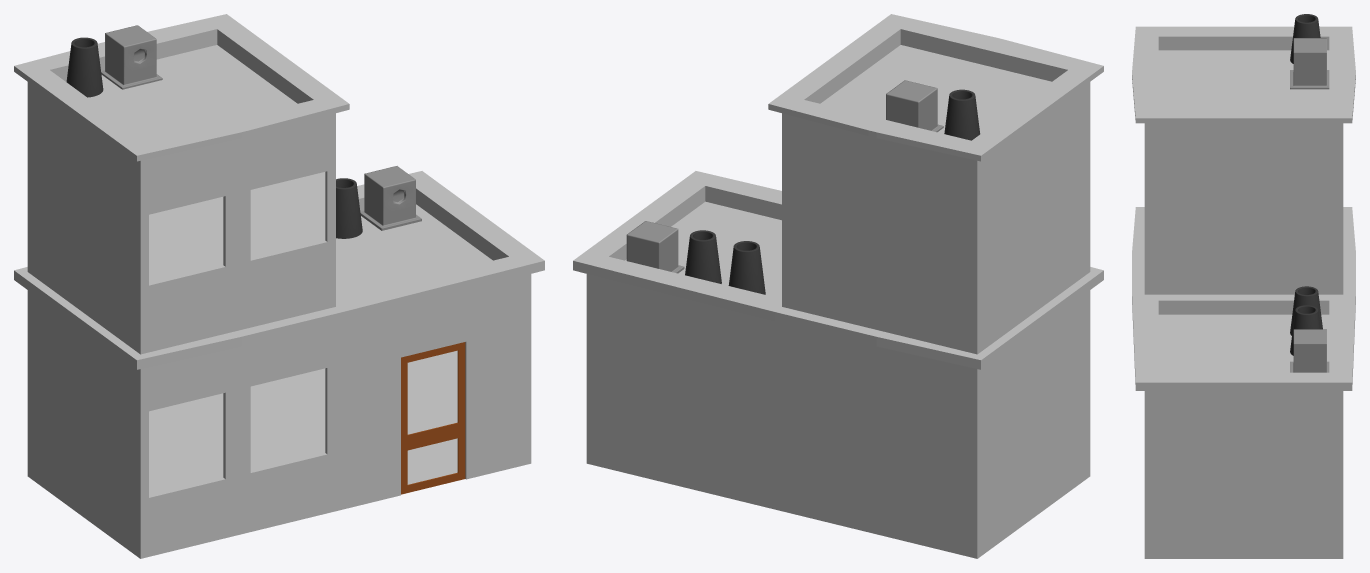
Rendered from teste.glb.
3 views of the same model, side by side, from view 1: azimuth 30°, elevation 25°; view 2: azimuth 150°, elevation 25°; view 3: azimuth 270°, elevation 25° (orthographic). The views are drawn at different scales.
Parts seen in each view (by area): view 1: predio, Cube.001, Cube.002, Cube.003, Cylinder.002, Cylinder.001; view 2: predio, Cube.002, Cube.003, Cylinder, Cylinder.001, Cylinder.002; view 3: predio, Cube.003, Cube.002, Cylinder.001, Cylinder.002, Cylinder.
Boxes of the visible parts, x1=… form: predio: x1=14, y1=14, x2=544, y2=558; Cube.001: x1=401, y1=342, x2=465, y2=494; Cube.002: x1=360, y1=166, x2=421, y2=230; Cube.003: x1=101, y1=25, x2=162, y2=89; Cylinder.002: x1=66, y1=37, x2=103, y2=97; Cylinder.001: x1=336, y1=178, x2=362, y2=238; predio: x1=573, y1=14, x2=1103, y2=558; Cube.002: x1=626, y1=221, x2=684, y2=273; Cube.003: x1=886, y1=80, x2=943, y2=132; Cylinder: x1=728, y1=241, x2=765, y2=294; Cylinder.001: x1=685, y1=230, x2=721, y2=283; Cylinder.002: x1=944, y1=89, x2=980, y2=140; predio: x1=1132, y1=26, x2=1355, y2=558; Cube.003: x1=1290, y1=38, x2=1329, y2=89; Cube.002: x1=1290, y1=329, x2=1329, y2=372; Cylinder.001: x1=1290, y1=305, x2=1320, y2=355; Cylinder.002: x1=1290, y1=14, x2=1320, y2=63; Cylinder: x1=1290, y1=286, x2=1322, y2=335.
Size of the model in its own units: 4.18 by 4.3 by 2.25.
